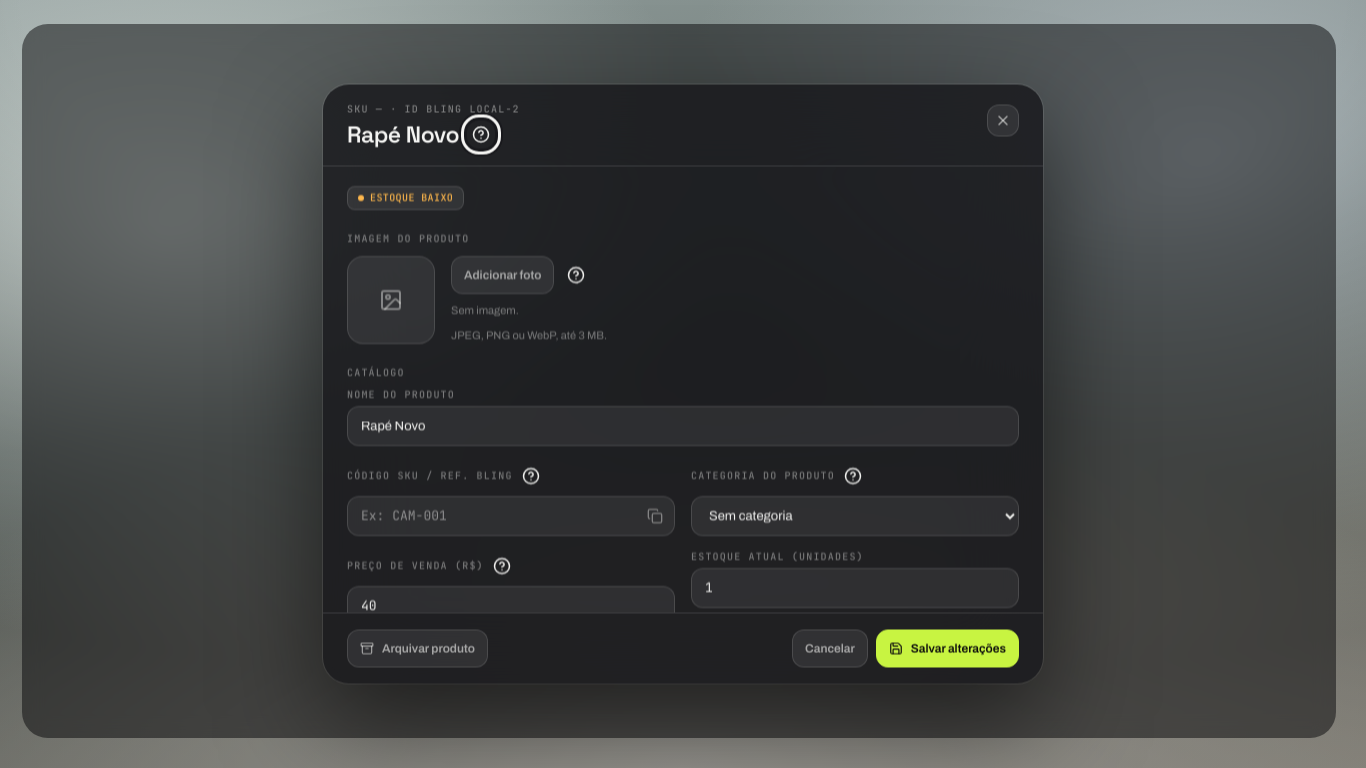
Scenario: ProductDetailModal — o botão de arquivar › produto só local: avisa o arquivamento no ORBITA, sem ID Bling
This screenshot has width=1366, height=768.
Click the button "Arquivar produto".
click(417, 648)  # box [347,630,488,668]
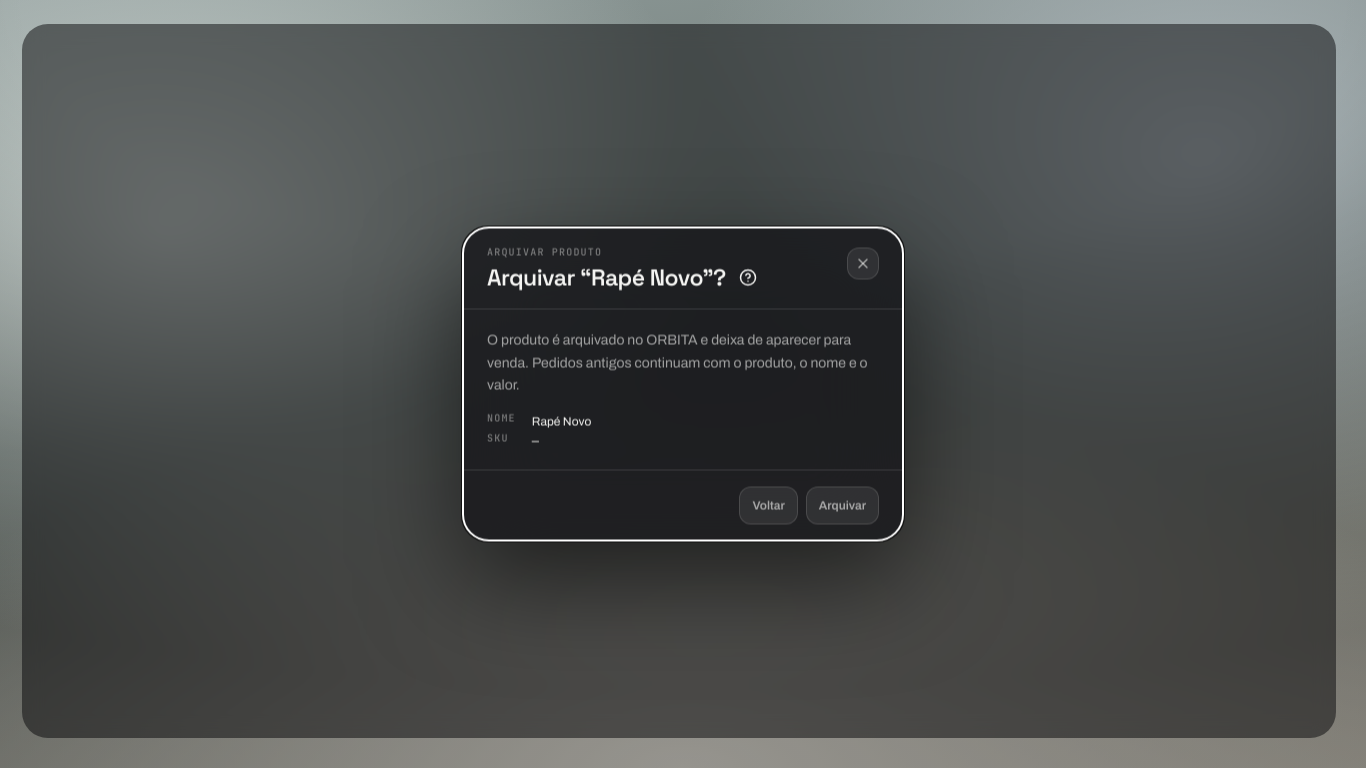
Expected: the text "O produto é arquivado no ORBITA e deixa de aparecer para venda. Pedidos antigos continuam com o produto, o nome e o valo" is shown, [487,332,868,393]
Expected: the text "ID Bling" is gone
